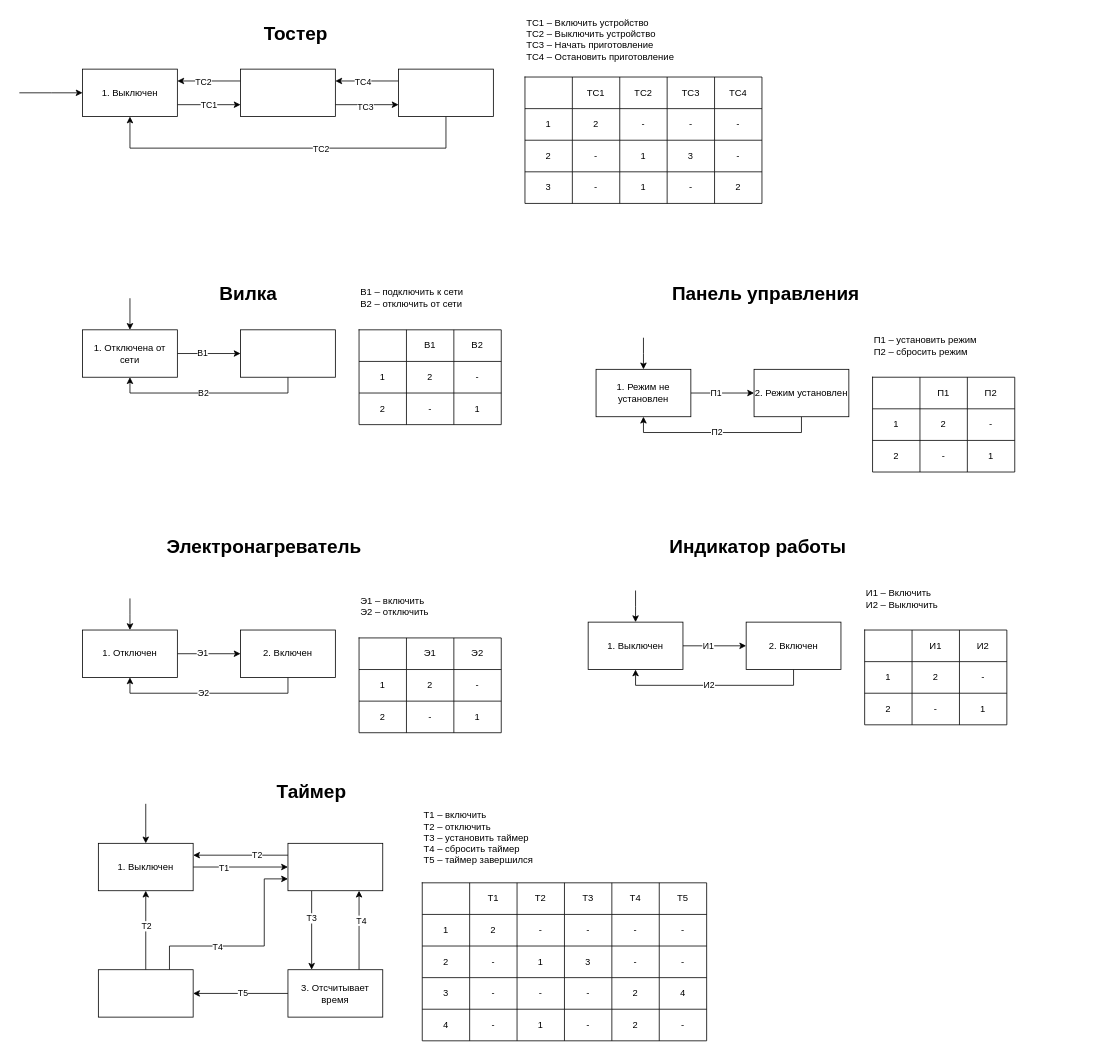
This 1108x1055 diagram has some shape labels left out. The shapes that lost their labels are listed below. From the top down, each one's centre as x and y in pixels, then its label:
the point at 287,92: 2. Ожидание старта
the point at 445,92: 3. Приготовление
the point at 287,353: 2. Подключена к сети
the point at 335,867: 2. Не установлен
the point at 145,993: 4. Подача сигнала о завершении таймера
